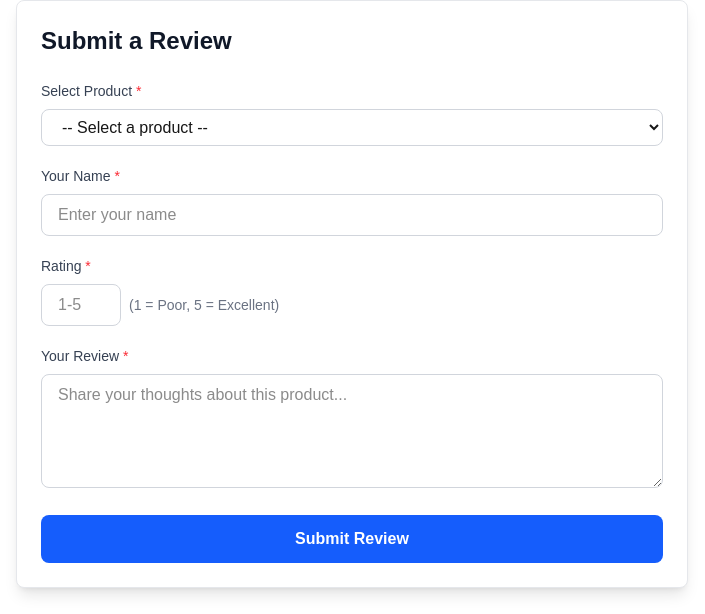
Test case: ProductReviewForm › shows loading state during submission
# Fill in the form
Step 1. Select "Test Product 1" in the dropdown labelled "Select Product *" → point(352, 128), box top-left (41, 109), bottom-right (663, 146)
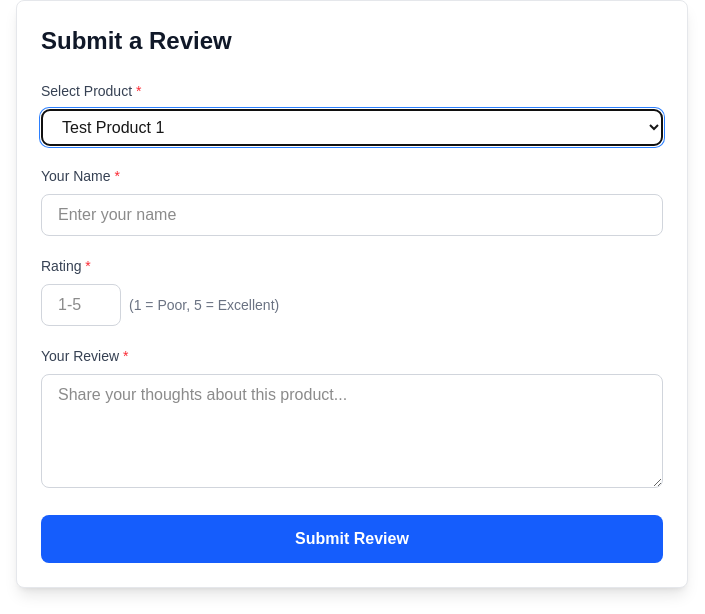
Step 2. Type "John Doe" into the field labelled "Your Name *" → point(352, 215), box top-left (41, 194), bottom-right (663, 236)
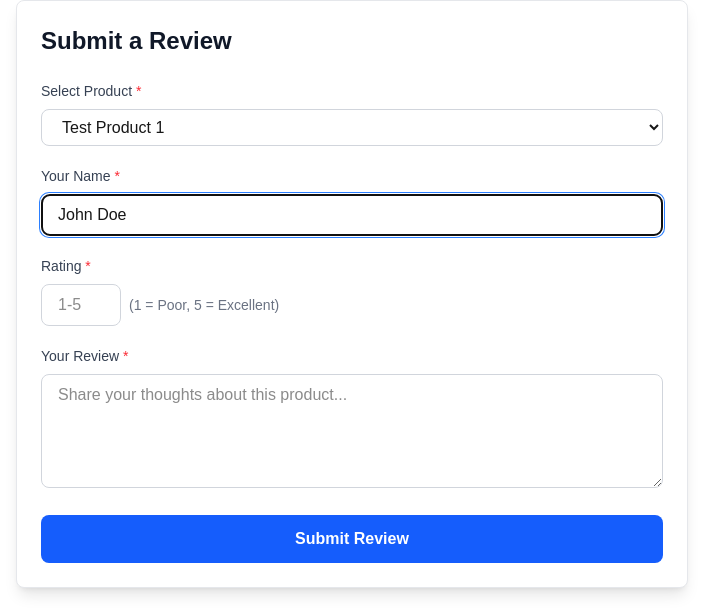
Step 3. Type "5" into the number field labelled "Rating *" → point(81, 305), box top-left (41, 284), bottom-right (121, 326)
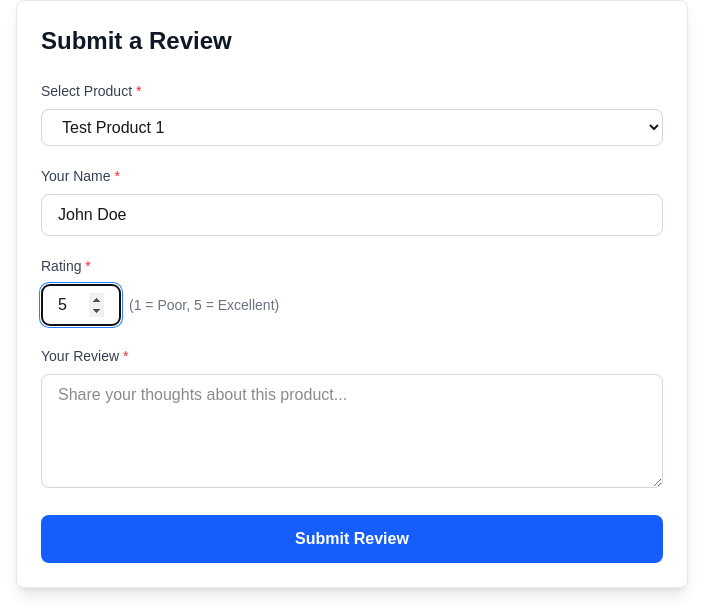
Step 4. Type "This is a great product! I love it." into the text box labelled "Your Review *" → point(352, 431), box top-left (41, 374), bottom-right (663, 488)
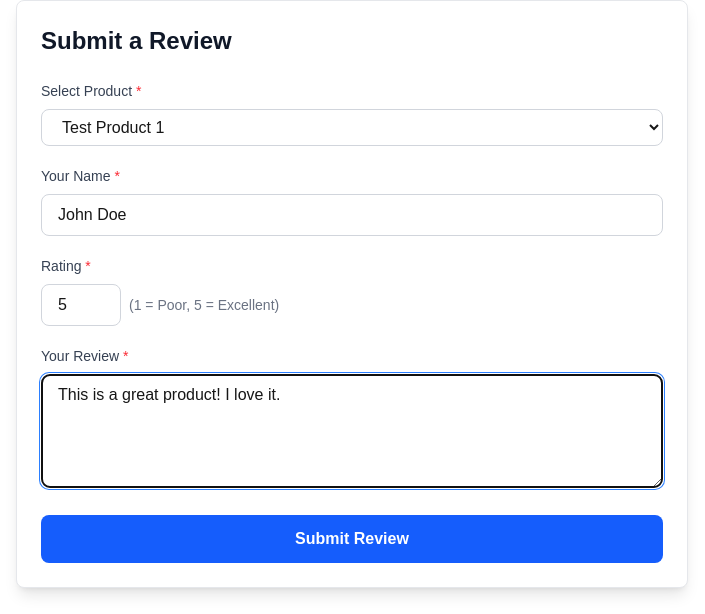
Step 5. Click the button "Submit Review" → point(352, 539), box top-left (41, 515), bottom-right (663, 563)
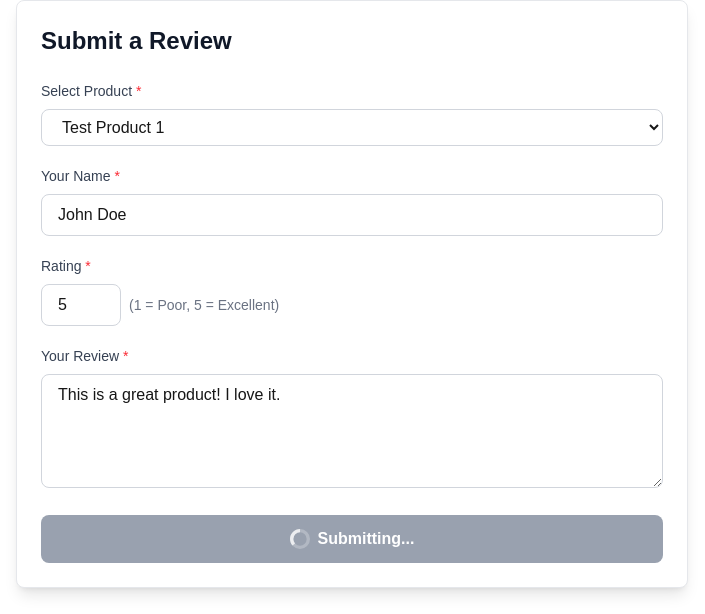
Expected: the button "Submitting..." is disabled, top-left (41, 515), bottom-right (663, 563)
